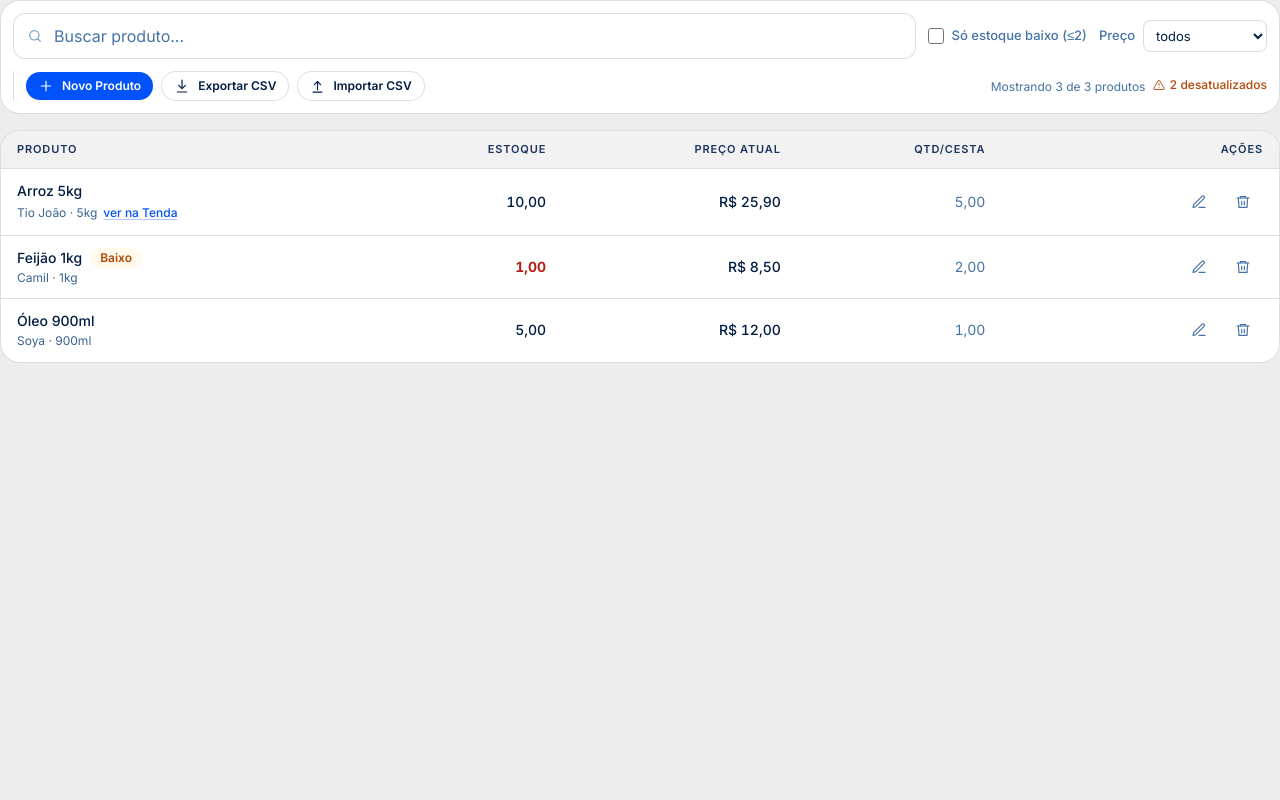
Test: EstoqueClient › exclui produto com confirmação usando soft delete
Click the button with test id "excluir-produto-1".
click(1243, 202)  # box left=1223, top=188, right=1263, bottom=216
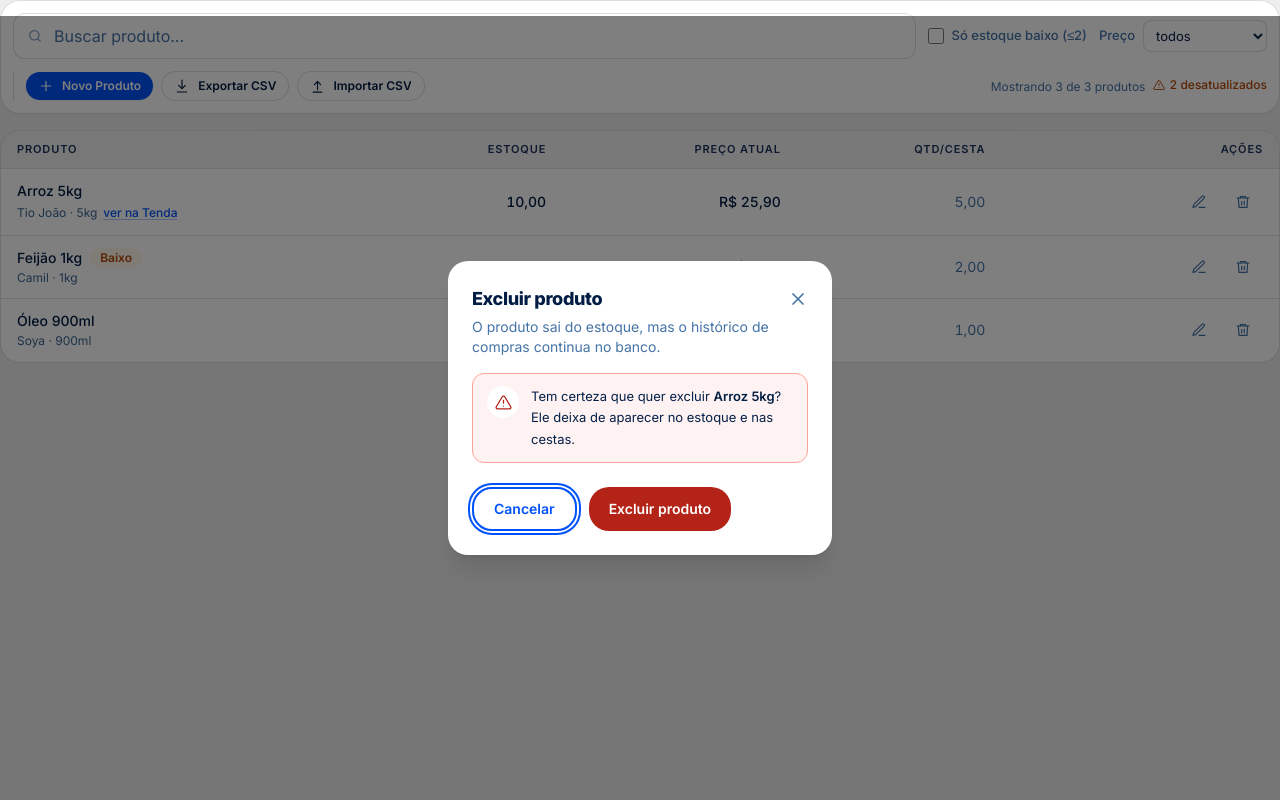
Check: the heading "Excluir produto" is shown, box left=472, top=288, right=602, bottom=309
Check: the text "Tem certeza que quer excluir" shows "Arroz 5kg", box left=714, top=388, right=775, bottom=404
Click the button with test id "confirmar-exclusao".
click(660, 509)  # box left=589, top=487, right=731, bottom=531
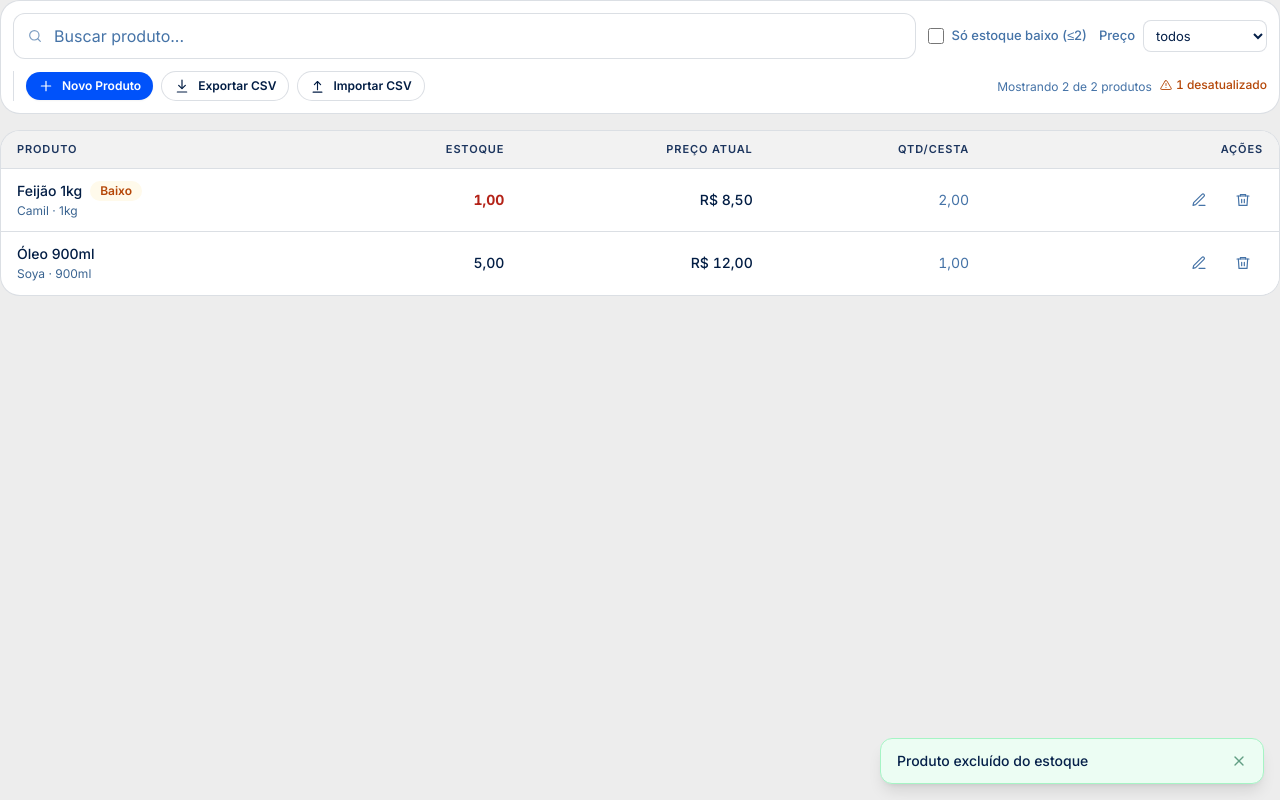
Check: the text "Arroz 5kg" is gone
Check: the text "Mostrando 2 de 2 produtos" is shown, box left=997, top=76, right=1267, bottom=96
Check: the text "Produto excluído do estoque" is shown, box left=897, top=752, right=1088, bottom=769
